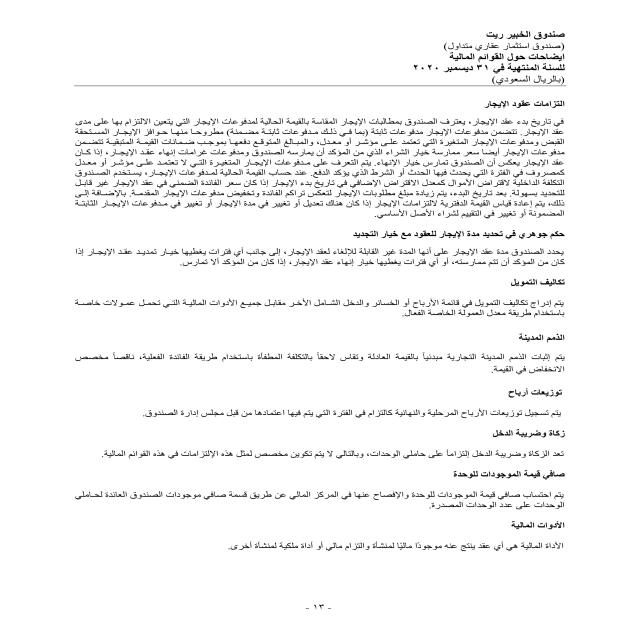notes: (437, 51, 571, 62)
text: (43, 94, 579, 556)
